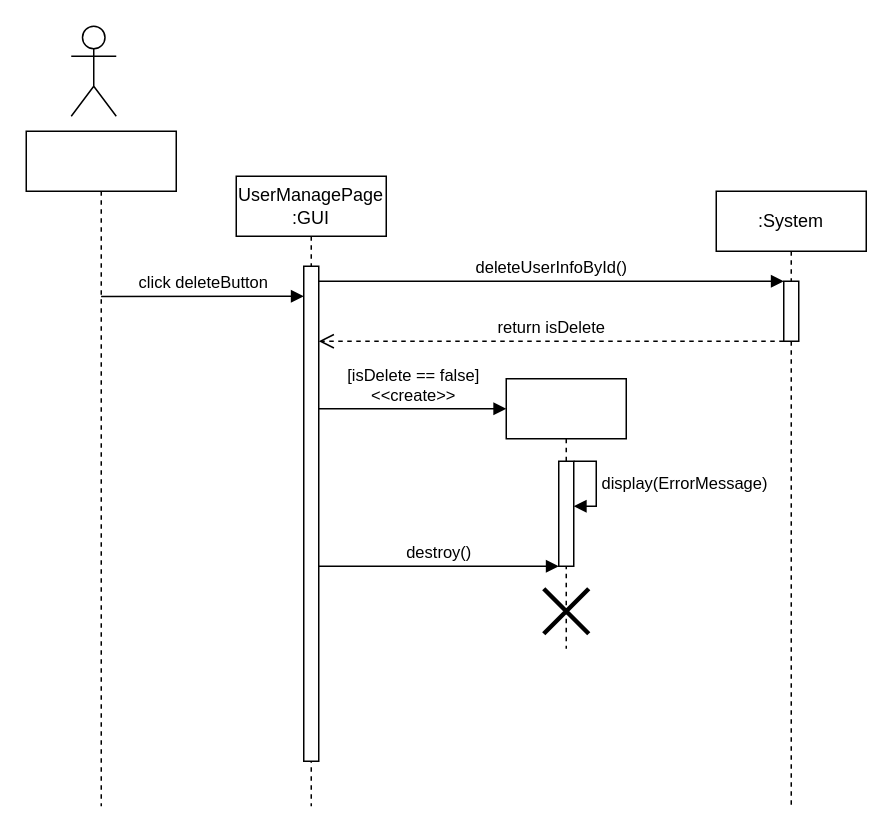
The diagram is 893 pixels wide and 833 high, and some of its shapes have lost their labels. The shapes that lost their labels are listed below. From the top down, each one's box as (x1, y1, x2, y2) in pixels, then its label:
(25, 130, 176, 806): User
(505, 377, 626, 649): SystemError :GUI
